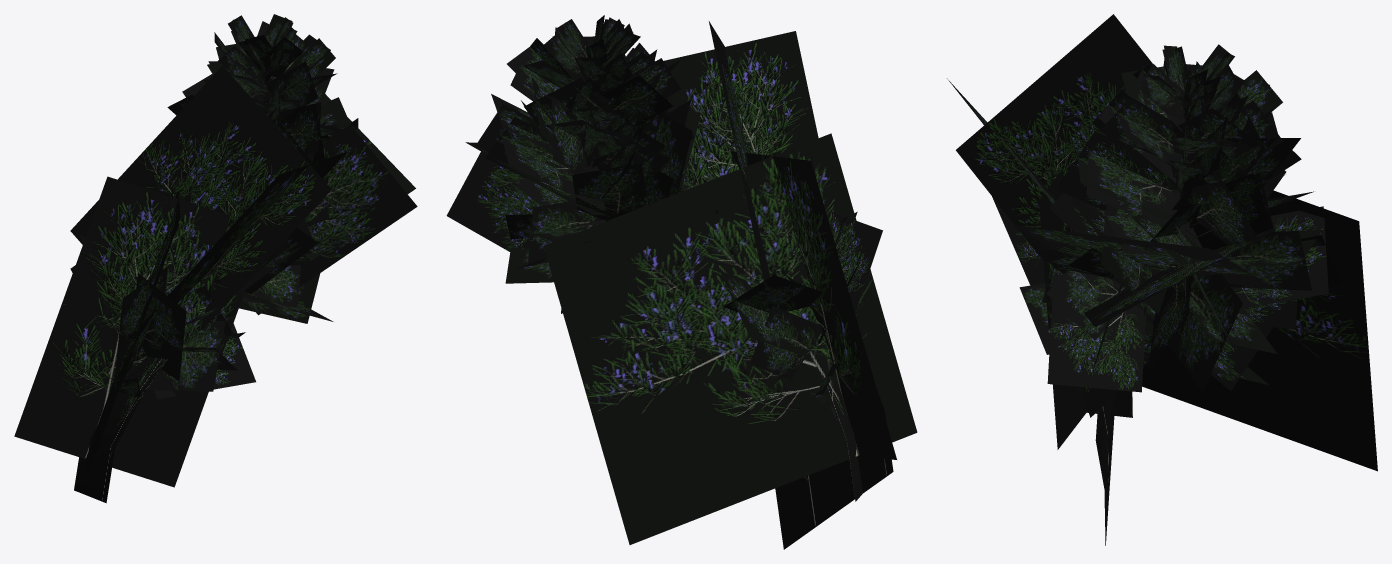
The model's file is rosmary_summer_fall.glb.
The picture shows the model from 3 angles, left to right: view 1: azimuth 30°, elevation 25°; view 2: azimuth 150°, elevation 25°; view 3: azimuth 270°, elevation 25°; orthographic projection. The views are drawn at different scales.
Parts seen in each view (by area): view 1: 2_Leaves, 1_Trunk; view 2: 2_Leaves, 1_Trunk; view 3: 2_Leaves, 1_Trunk.
Boxes of the visible parts, x1,y1,x2,y2 form: 2_Leaves: (14, 14, 417, 487); 1_Trunk: (74, 320, 198, 503); 2_Leaves: (446, 15, 917, 544); 1_Trunk: (598, 169, 893, 549); 2_Leaves: (947, 14, 1377, 471); 1_Trunk: (1087, 390, 1132, 545).
Bounding box in the file's own units: 45.77 × 54.35 × 36.91.
1 material, 1 textured.
